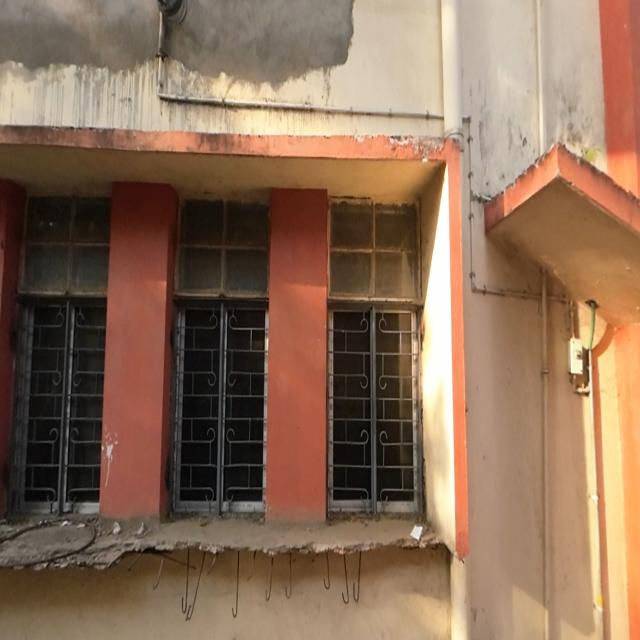Incomplete Plaster Work: (0, 0, 354, 84)
